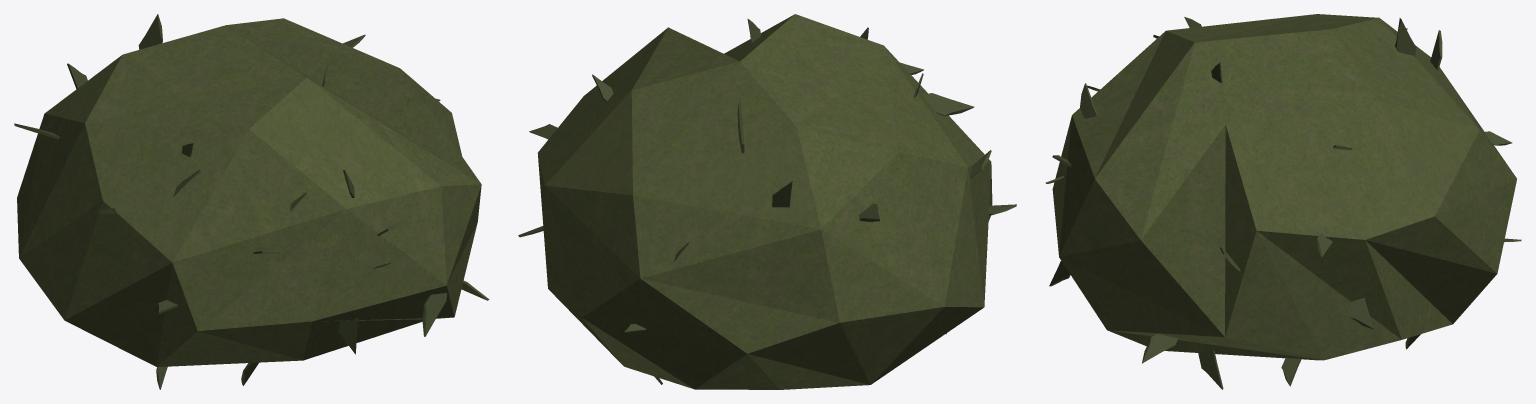
File: Arbusto.fbx
The picture shows the model from 3 angles, left to right: view 1: azimuth 30°, elevation 25°; view 2: azimuth 150°, elevation 25°; view 3: azimuth 270°, elevation 25°; orthographic projection. The views are drawn at different scales.
Visible parts, largest first — view 1: Arbusto; view 2: Arbusto; view 3: Arbusto.
Part boxes in pixels (x1,y1,x2,y2): Arbusto: (14, 14, 489, 389); Arbusto: (518, 14, 1016, 389); Arbusto: (1045, 14, 1521, 389).
Bounding box in the file's own units: 109 × 78.42 × 107.
Materials: 2 (2 with a texture image).
